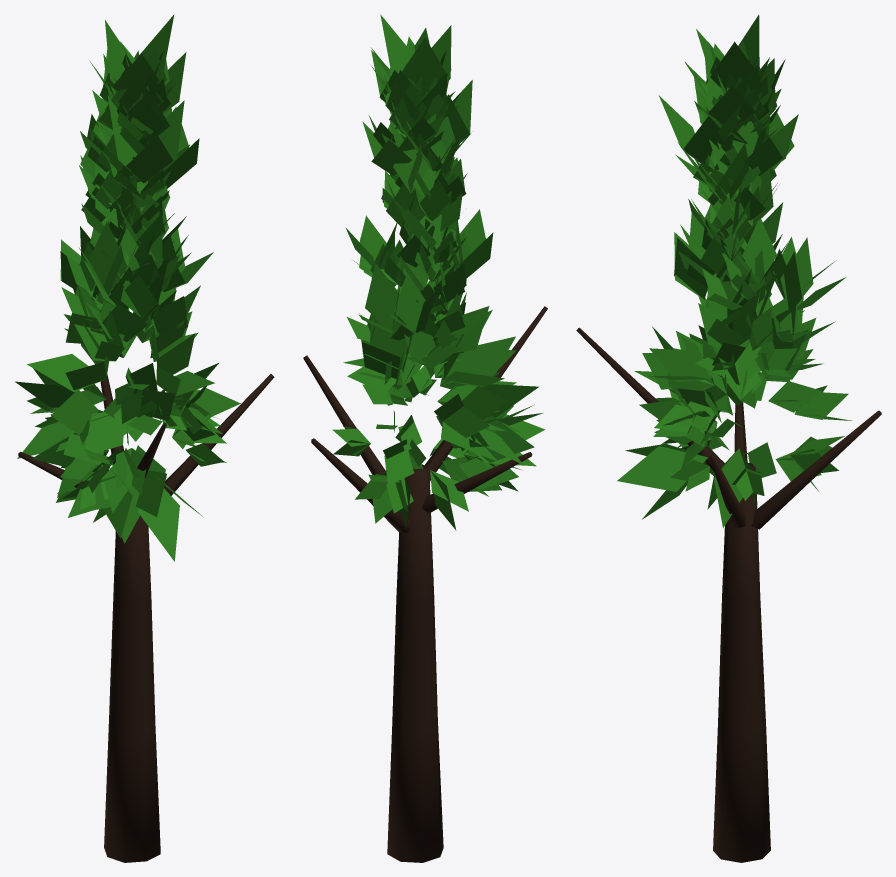
The model's file is Tree_08_B_LOD1.obj.
3 renders of one model, left to right at view 1: azimuth 30°, elevation 25°; view 2: azimuth 150°, elevation 25°; view 3: azimuth 270°, elevation 25°, orthographic.
Parts seen in each view (by area): view 1: Leaves, Trunk; view 2: Leaves, Trunk; view 3: Leaves, Trunk.
Part boxes in pixels (x1=…): Leaves: x1=15, y1=14, x2=240, y2=561; Trunk: x1=18, y1=374, x2=274, y2=862; Leaves: x1=332, y1=14, x2=545, y2=530; Trunk: x1=303, y1=306, x2=547, y2=862; Leaves: x1=617, y1=14, x2=852, y2=527; Trunk: x1=576, y1=327, x2=881, y2=862.
Size of the model in its own units: 3.49 by 11.42 by 3.82.
